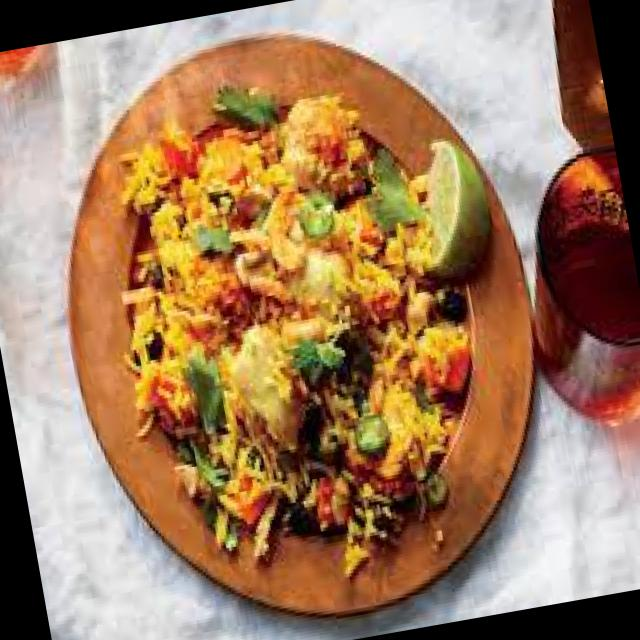Biryani: (90, 75, 520, 612)
